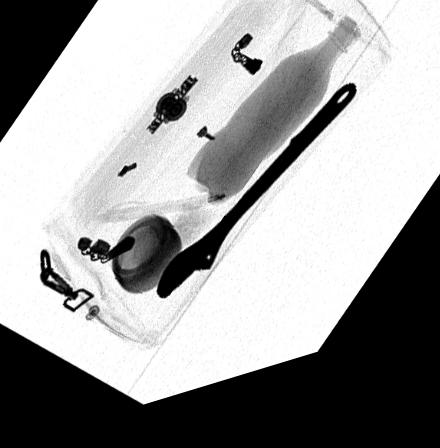Wrench: (154, 103, 355, 307)
